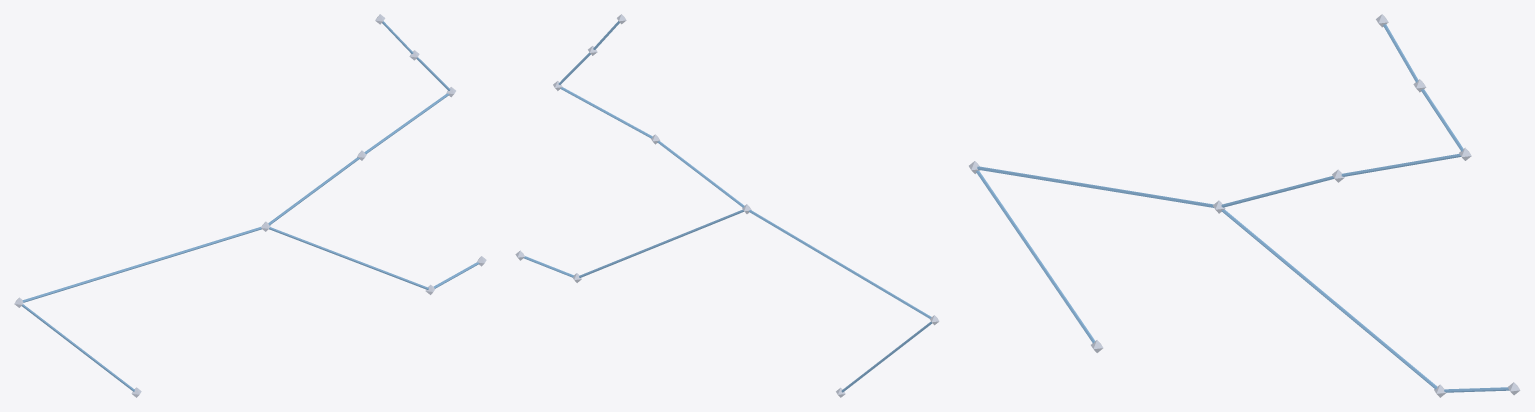
The model's file is constellation-mon.glb.
3 views of the same model, side by side, from view 1: azimuth 30°, elevation 25°; view 2: azimuth 150°, elevation 25°; view 3: azimuth 330°, elevation 25° (orthographic). The views are drawn at different scales.
Bounding box in the file's own units: 3 × 2.1 × 0.3773.
